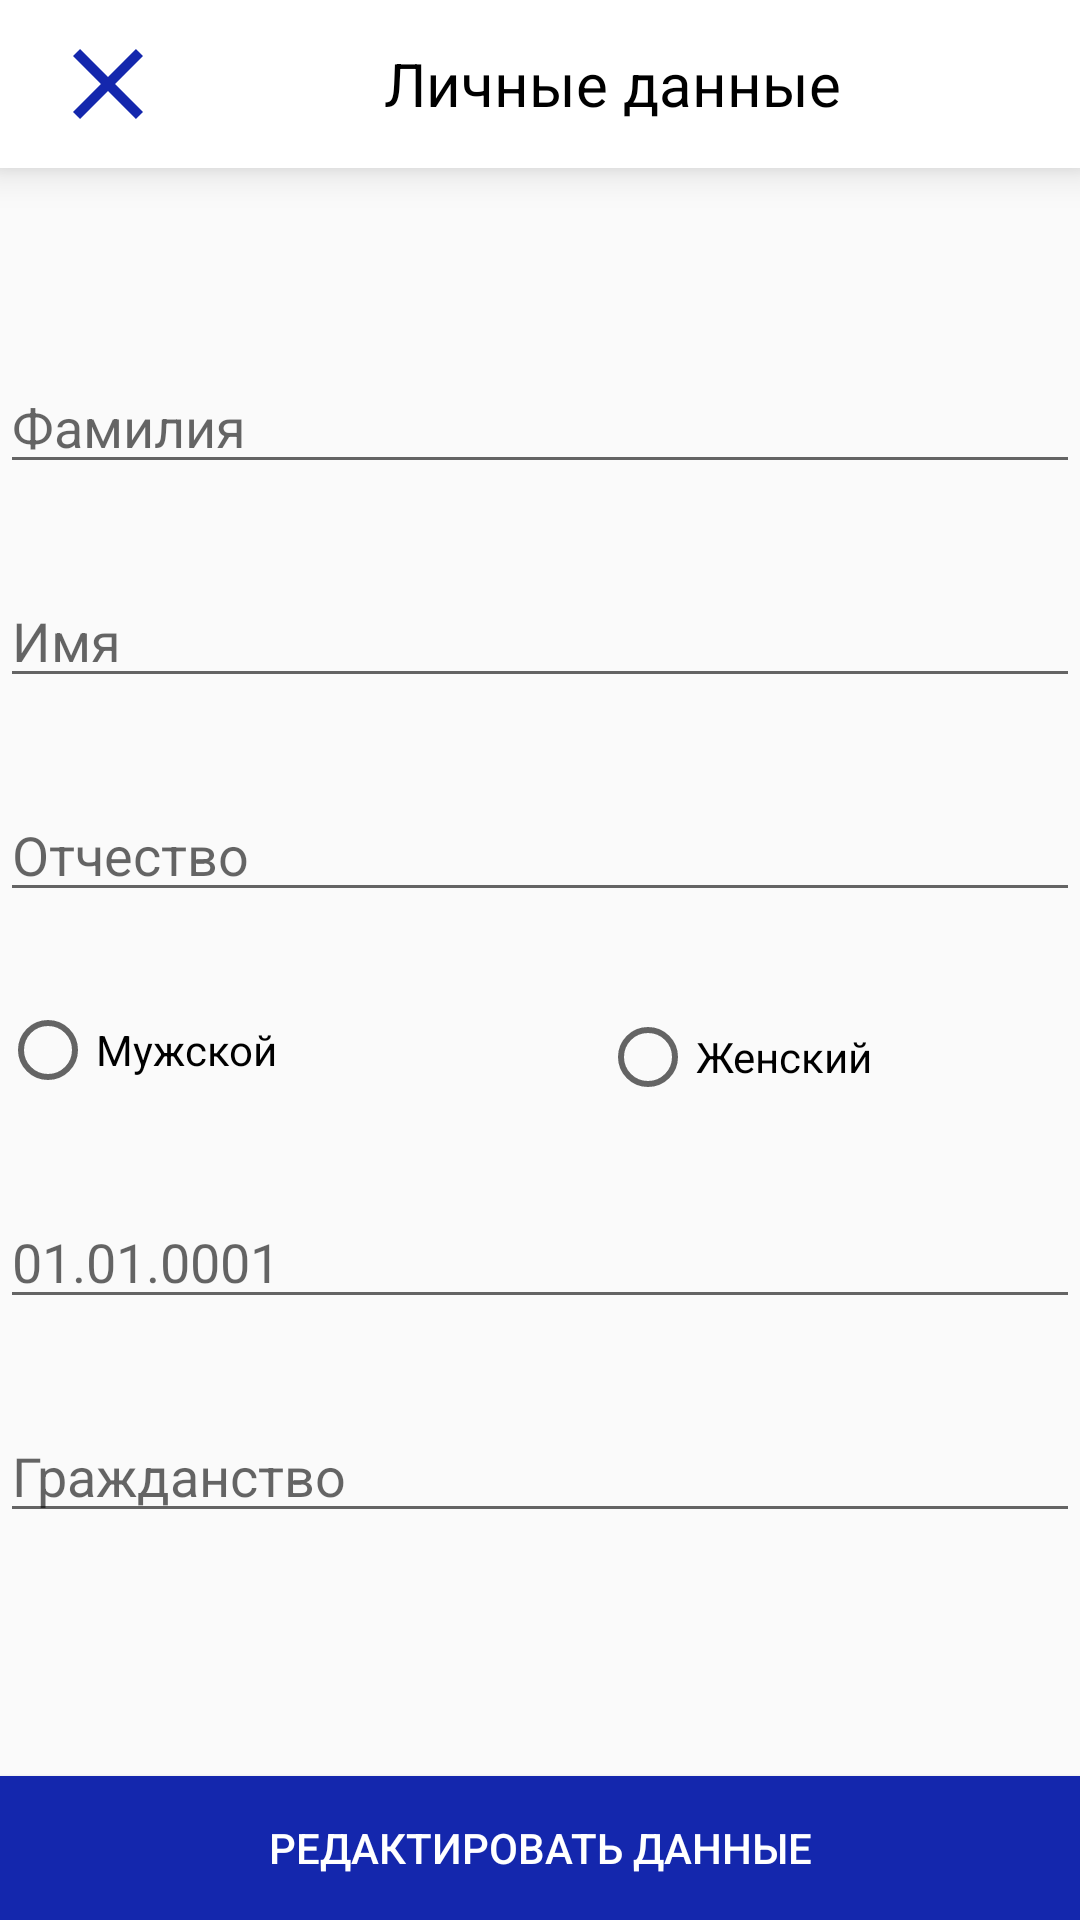

Icons on this 1080×1920 Android screen, each with its box as (x1, y1, x2, y2):
clear: (73, 49, 143, 119)
